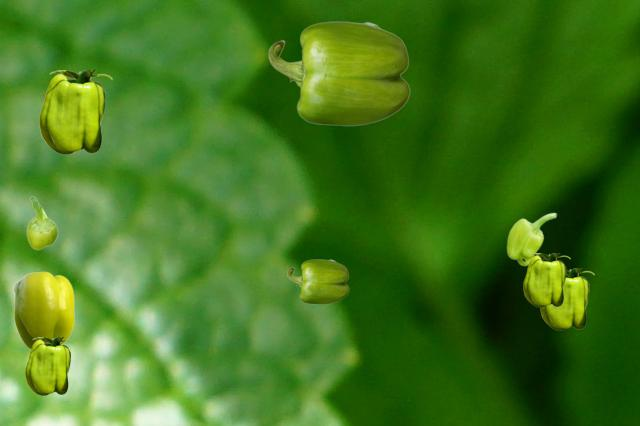bell_pepper: (268, 21, 409, 125), (39, 70, 111, 153), (13, 271, 73, 349), (540, 268, 593, 329), (25, 337, 74, 394), (287, 259, 348, 303), (506, 212, 556, 265), (523, 253, 569, 306), (26, 196, 57, 249)
